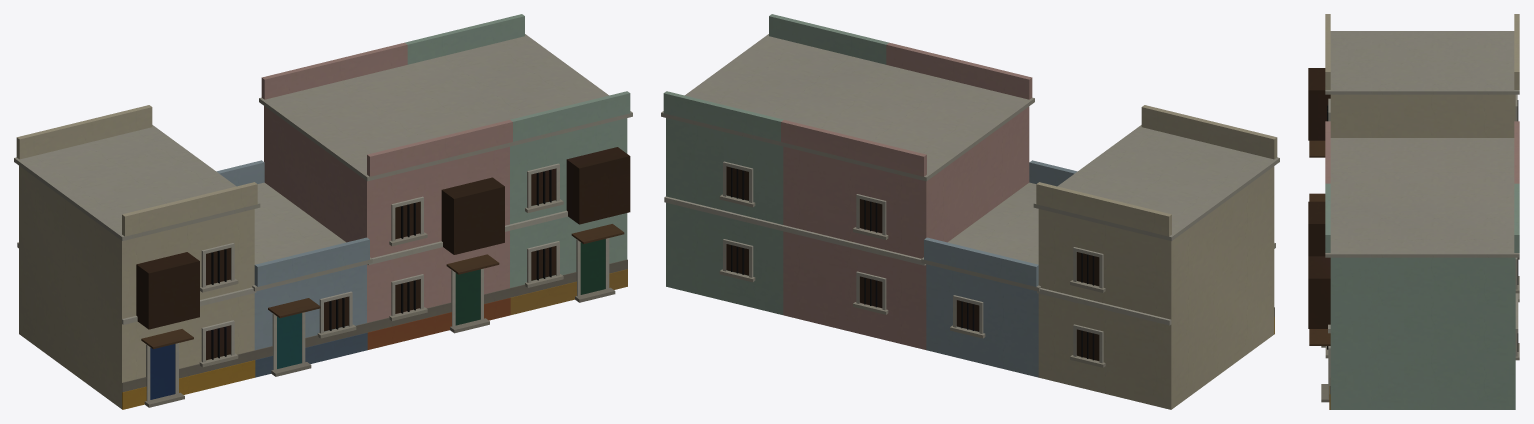
The model's file is abadi_row_a_lod.glb.
The picture shows the model from 3 angles, left to right: view 1: azimuth 30°, elevation 25°; view 2: azimuth 150°, elevation 25°; view 3: azimuth 270°, elevation 25°; orthographic projection. The views are drawn at different scales.
Parts seen in each view (by area): view 1: hb_main; view 2: hb_main; view 3: hb_main.
Part boxes in pixels (bbox=[...]): hb_main: bbox=[14, 14, 632, 409]; hb_main: bbox=[661, 14, 1279, 409]; hb_main: bbox=[1308, 14, 1519, 409].
Size of the model in its own units: 20 by 7.3 by 8.01.
Materials: 1 (1 with a texture image).
